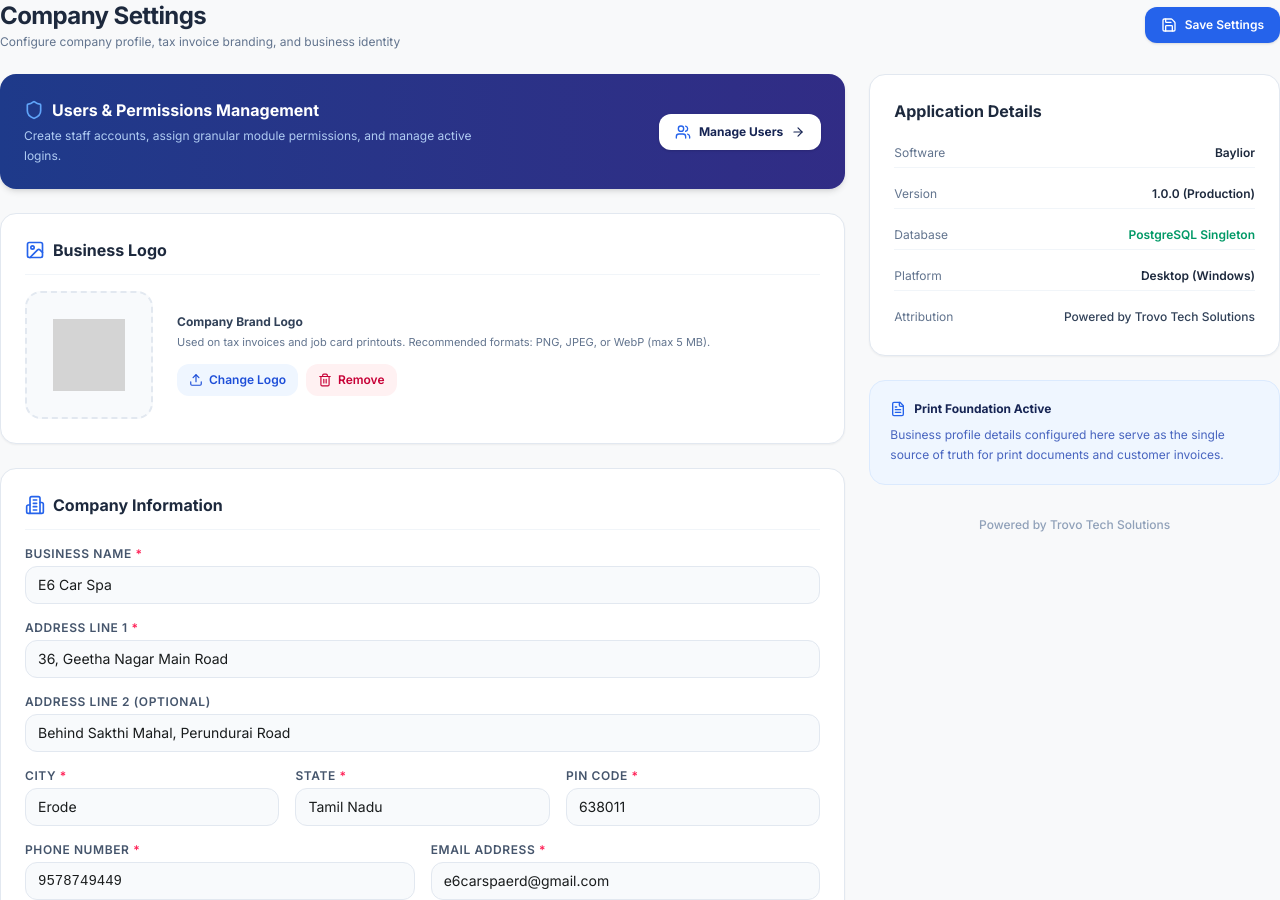
Test: SettingsPage Component & Business Profile Boundary › validates 10-digit phone number and required fields before saving
Expected: the field showing "E6 Car Spa" below "Business Name" is shown, [25, 566, 820, 604]
Replace the text in the field showing "9578749449" below "Phone Number" with "95787": (220, 881) [25, 862, 415, 899]
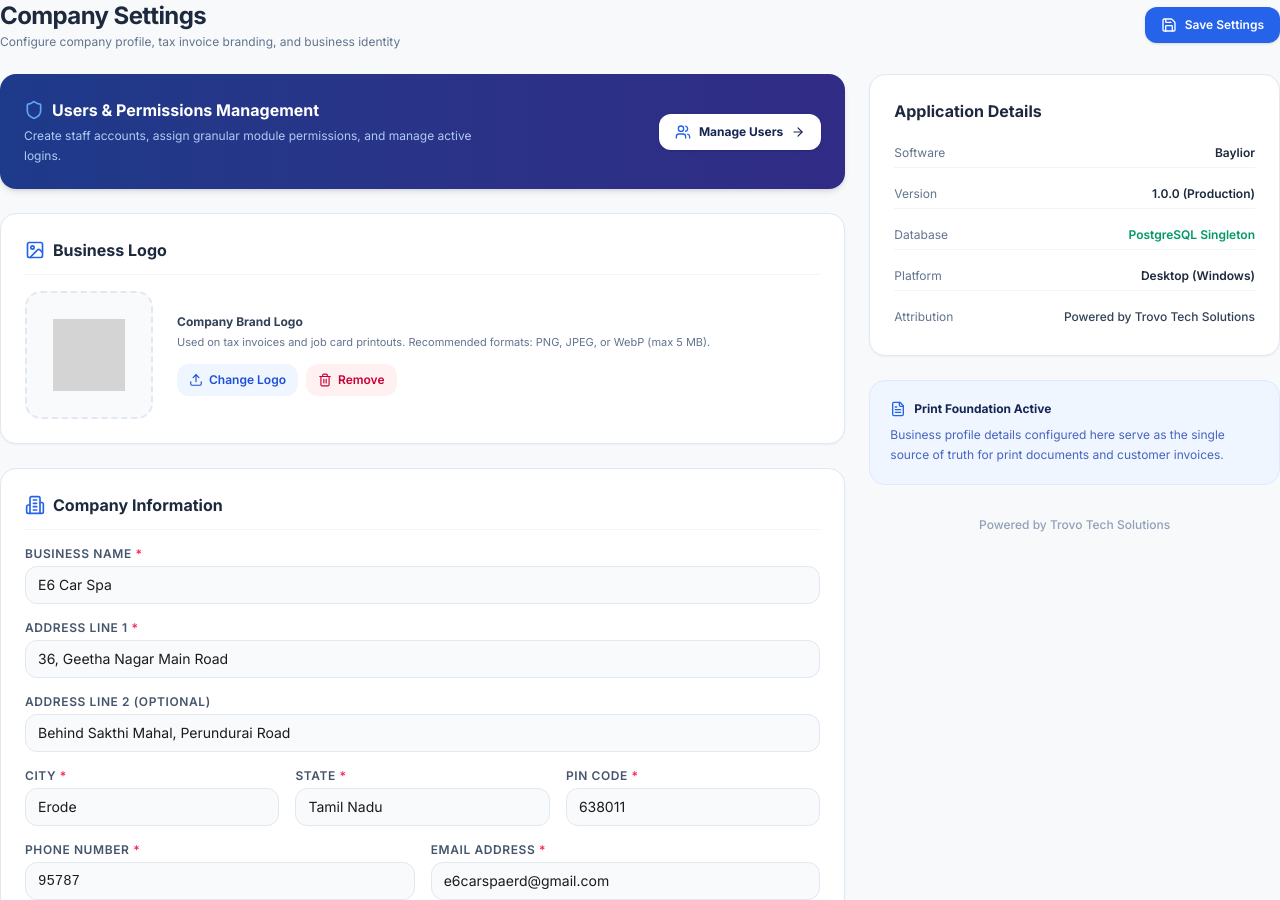
Click the button "Save Settings": (1212, 25) [1145, 7, 1279, 43]
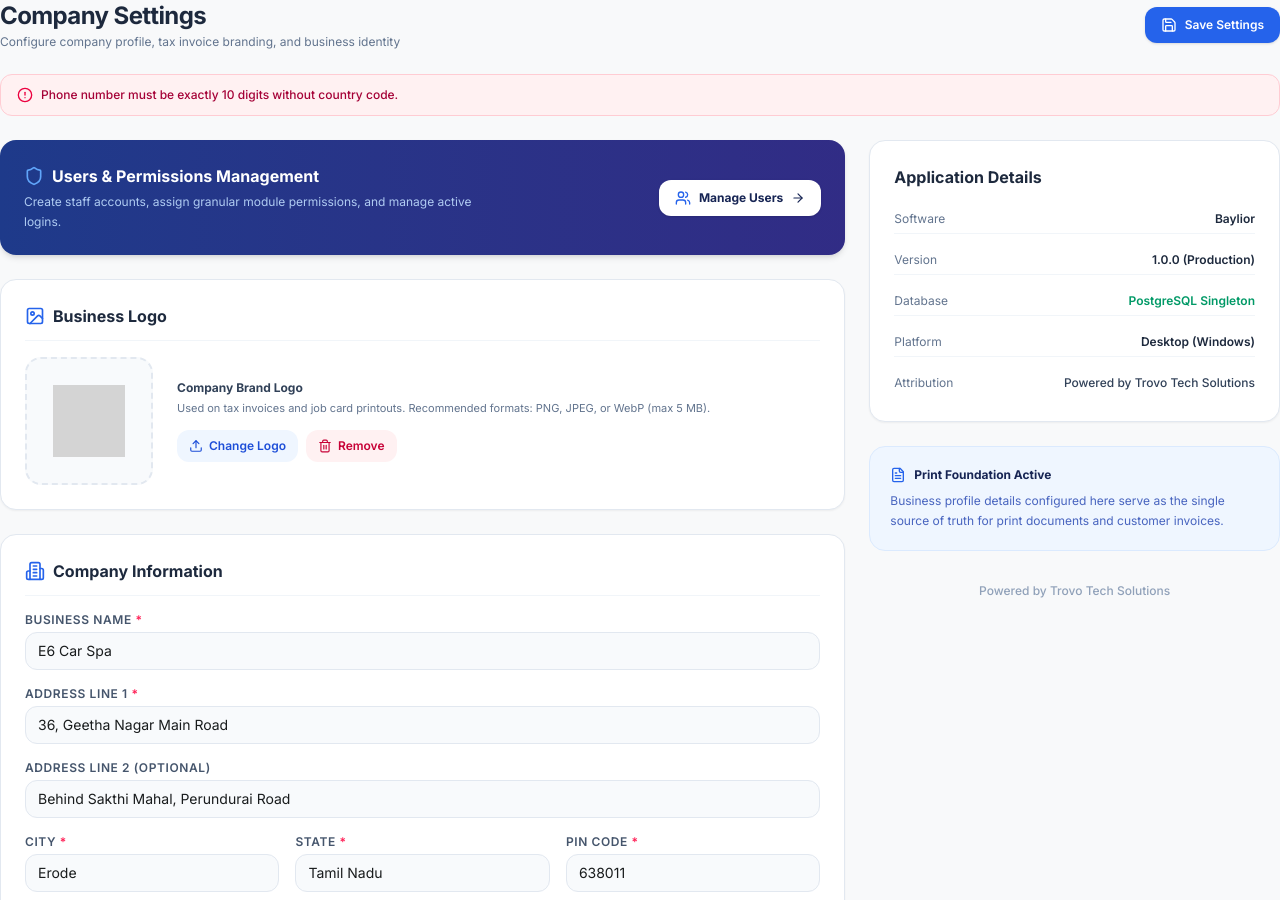
Result: the text "Phone number must be exactly 10 digits without country code." is shown at [0, 74, 1279, 116]
